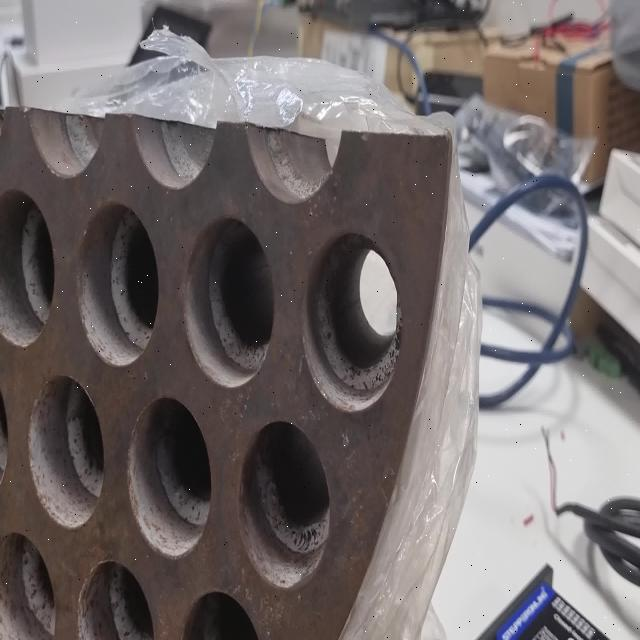Hole: (304, 230, 403, 412), (181, 216, 275, 388), (240, 417, 330, 589), (126, 396, 212, 558), (76, 202, 158, 367), (27, 375, 104, 529), (0, 191, 56, 348), (76, 557, 156, 640), (0, 531, 56, 639), (180, 587, 268, 640)
